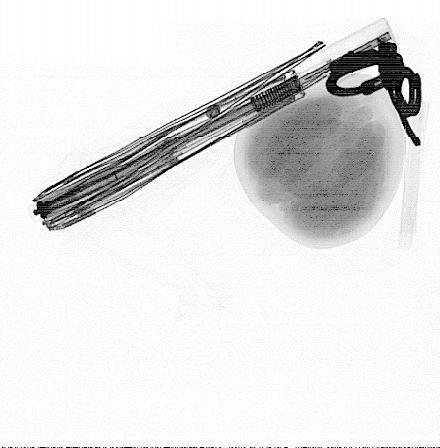HandCuffs: (323, 36, 424, 150)
